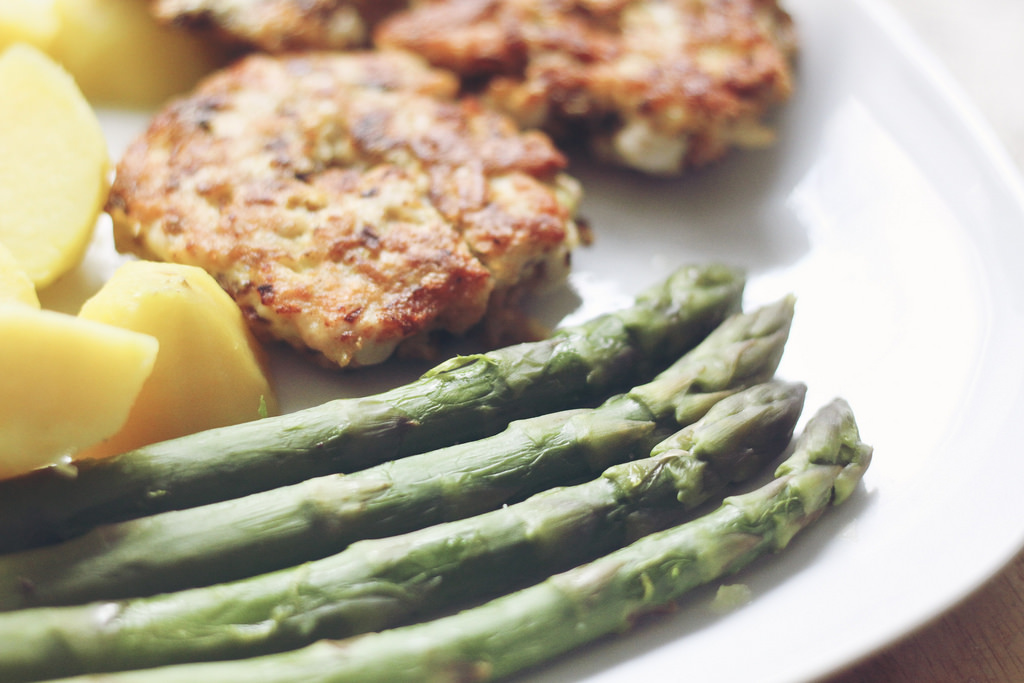boiled potatoes: (1, 272, 277, 461), (1, 17, 108, 297)
